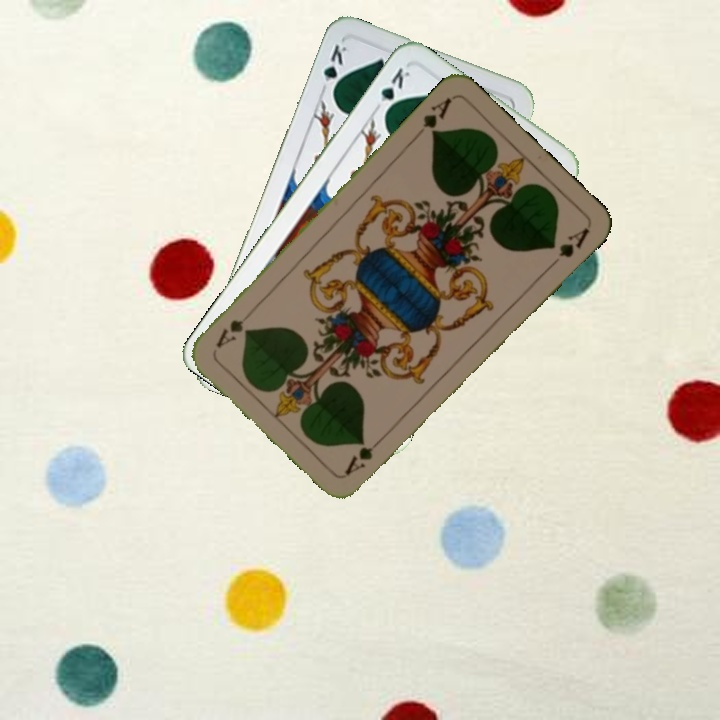GA: (340, 431, 387, 478), (412, 93, 454, 142)
GK: (376, 63, 413, 118), (317, 40, 351, 98)
